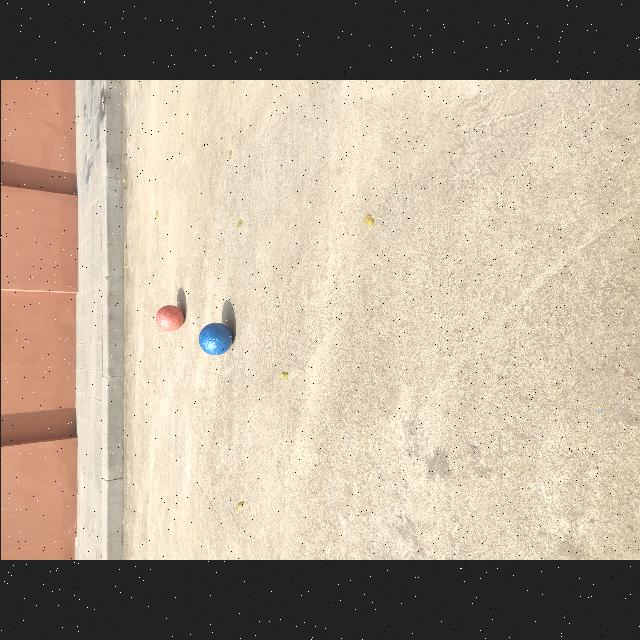B: (197, 323, 231, 356)
R: (154, 305, 183, 332)
